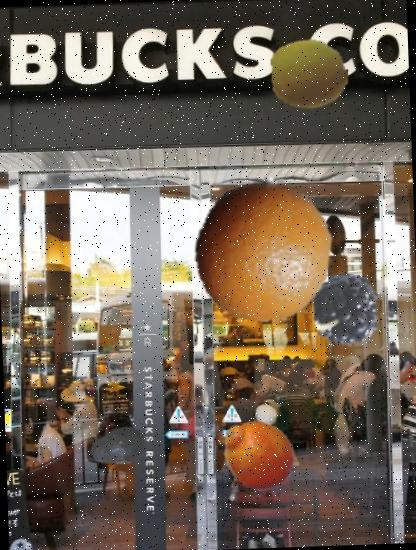Avocado: (89, 416, 149, 476)
Mulberry: (308, 264, 403, 358)
Orange: (188, 174, 338, 324)
Peach: (268, 34, 350, 115)
Tangelo: (217, 415, 298, 496)
